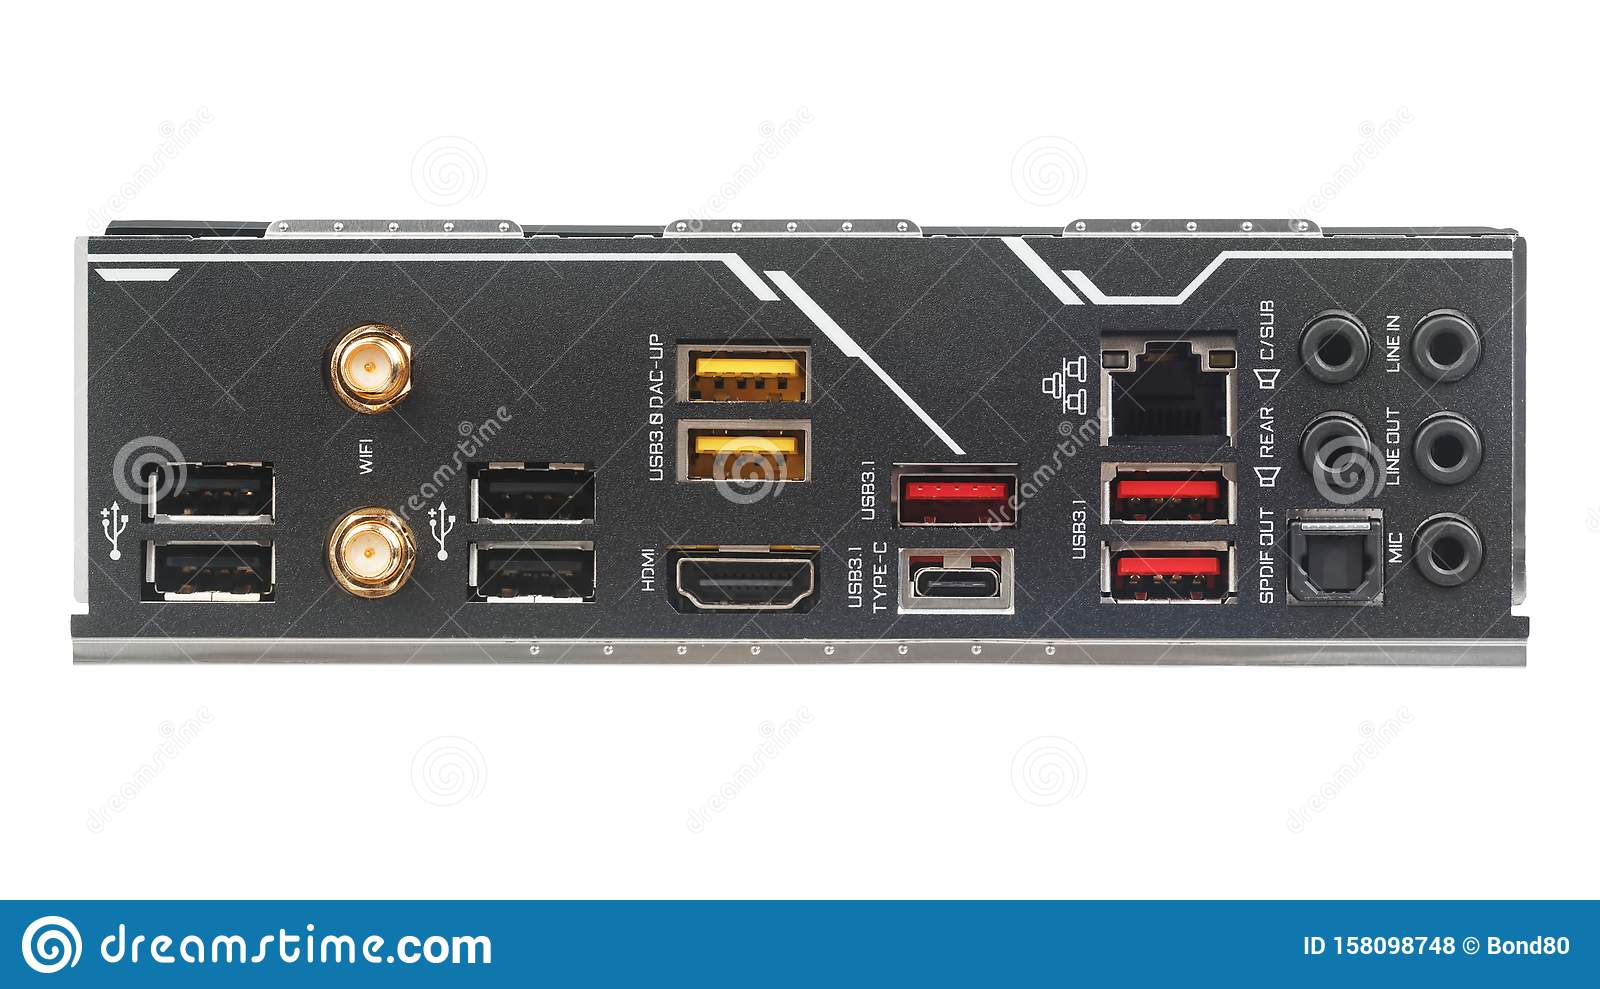Audio: (1291, 300, 1375, 390), (1408, 412, 1489, 490), (1409, 515, 1487, 590), (1409, 309, 1487, 382)
Ethernet: (1087, 329, 1245, 458)
USB: (147, 454, 283, 531), (143, 533, 279, 609), (664, 343, 815, 412), (464, 531, 606, 599), (466, 460, 603, 526), (672, 420, 823, 478), (1099, 541, 1238, 603), (891, 463, 1021, 526), (1106, 465, 1230, 526)
